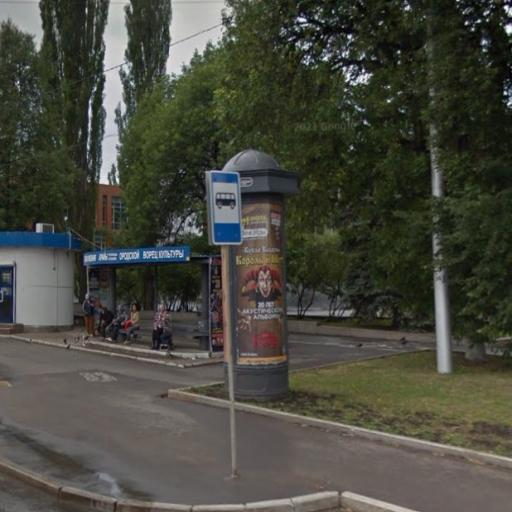traffic_sign: (206, 172, 246, 249)
